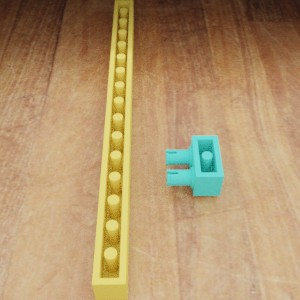lego: (91, 0, 133, 299), (165, 135, 224, 196)
